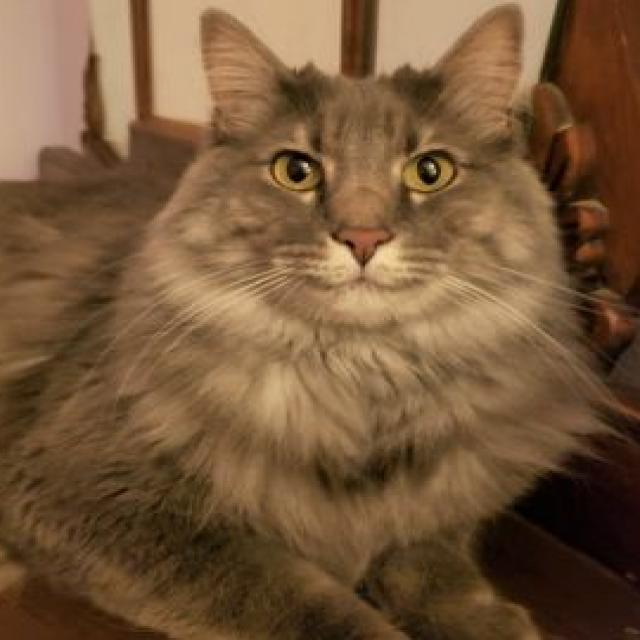Maine Coon: (0, 0, 614, 640)
